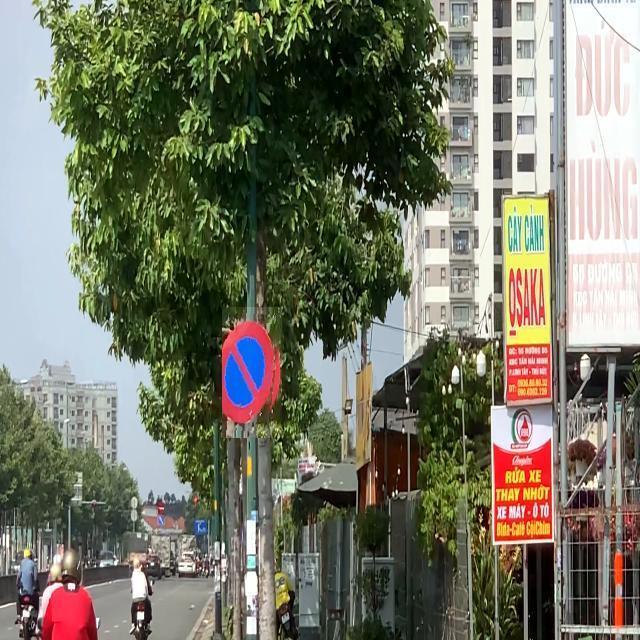P-102: (157, 500, 165, 514)
P-131a: (222, 307, 282, 438)
R-302a: (157, 515, 165, 525)
